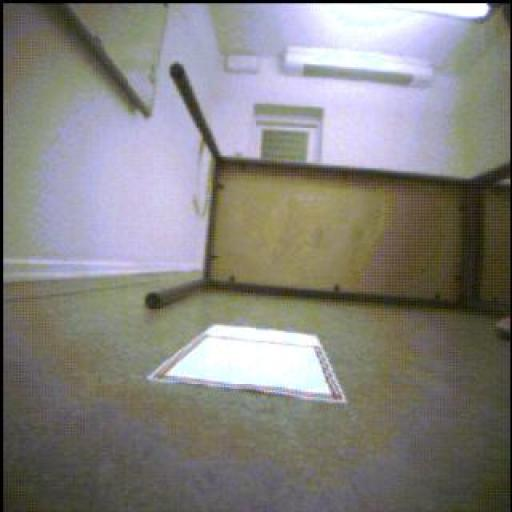Pad: (165, 323, 345, 406)
